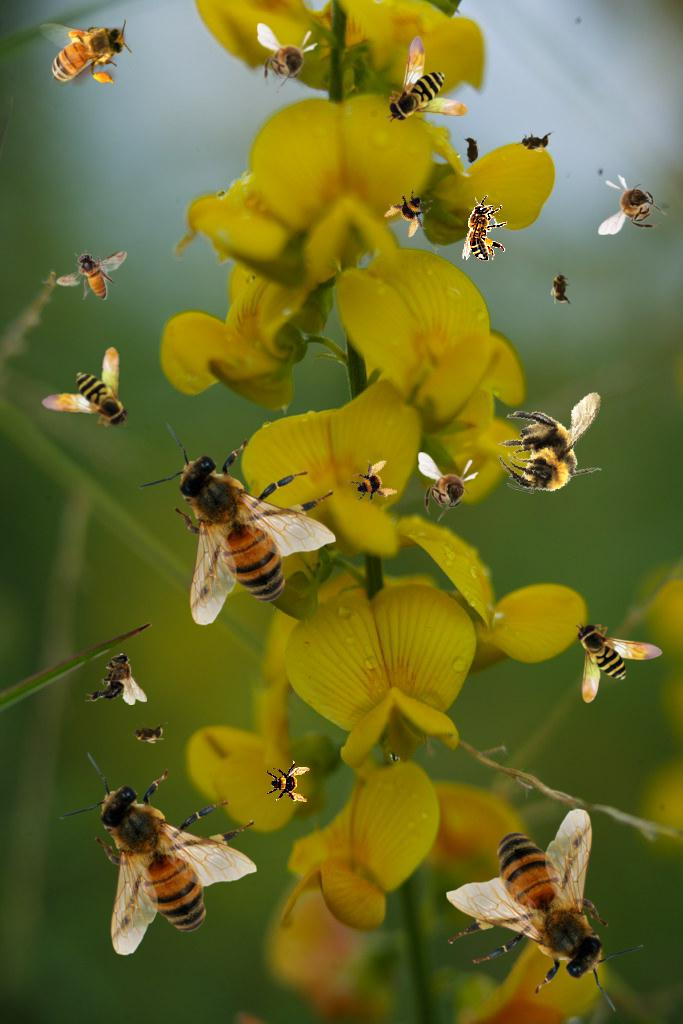Bee: (58, 752, 257, 956), (446, 808, 645, 1012), (137, 422, 336, 626), (487, 371, 622, 510), (37, 346, 131, 434), (575, 621, 663, 703), (386, 35, 468, 123), (39, 19, 132, 87), (598, 174, 668, 235), (418, 452, 479, 522), (257, 23, 318, 93), (380, 181, 442, 243), (342, 452, 402, 512), (56, 250, 127, 300), (85, 652, 147, 705), (462, 195, 507, 261), (266, 760, 310, 804), (515, 131, 555, 153), (460, 131, 482, 171), (550, 268, 572, 308), (128, 722, 168, 744)
